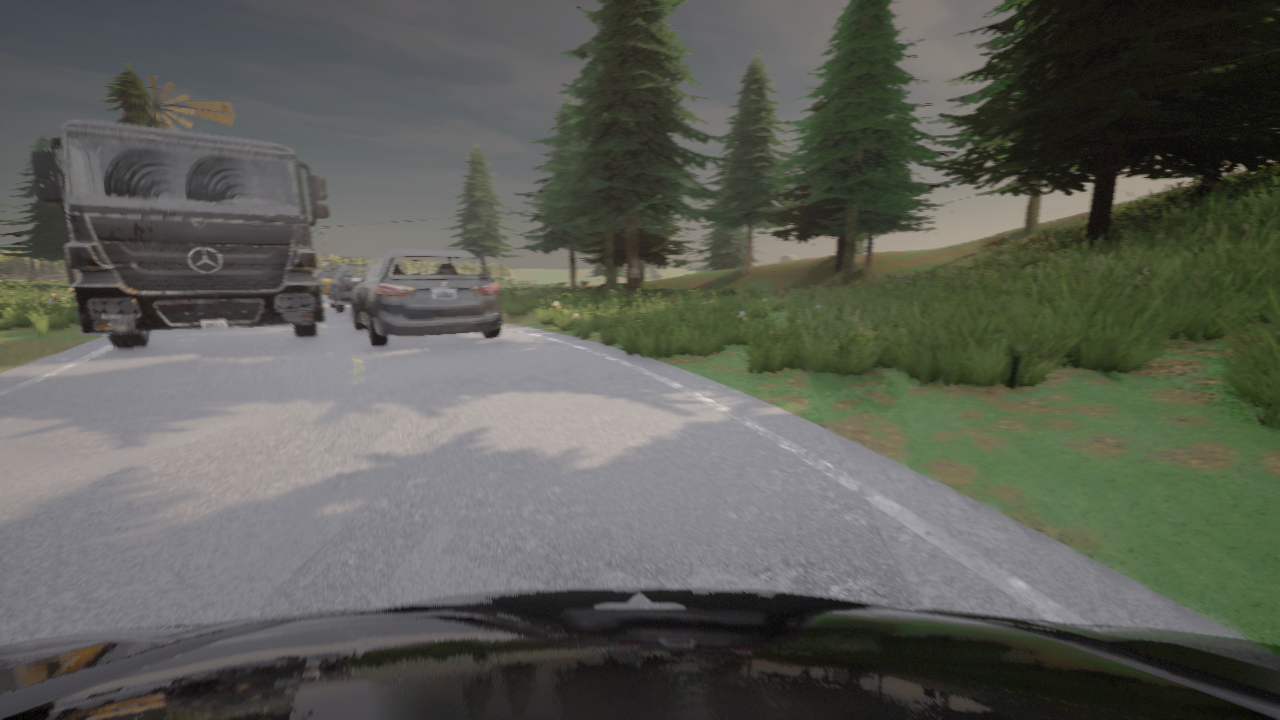cyclist: (0, 588, 1279, 719), (30, 120, 328, 348), (350, 248, 502, 346), (326, 264, 370, 312), (314, 266, 336, 294), (315, 270, 317, 272)
